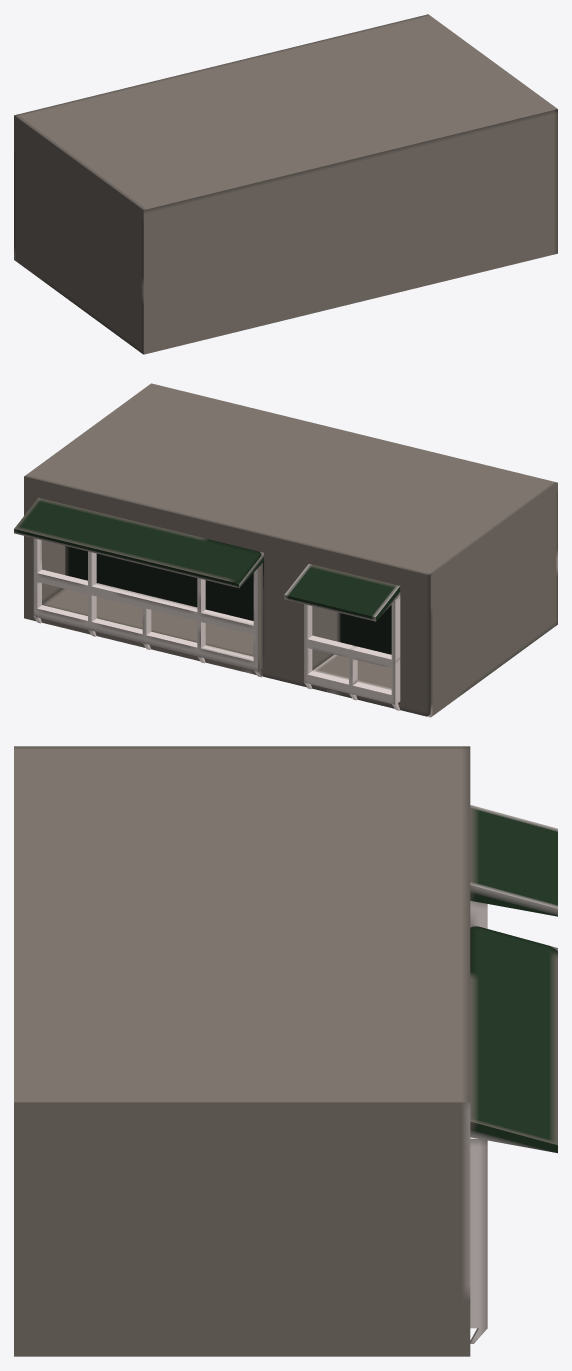
Rendered from ApartmentBuildingMiddle.fbx.
The picture shows the model from 3 angles, top to bottom: view 1: azimuth 30°, elevation 25°; view 2: azimuth 150°, elevation 25°; view 3: azimuth 270°, elevation 25°; orthographic projection. The views are drawn at different scales.
Visible parts, largest first — view 1: middleBase; view 2: middleBase, fence, fence_1; view 3: middleBase, fence.
Boxes of the visible parts, x1=… form: middleBase: x1=14, y1=14, x2=557, y2=354; middleBase: x1=14, y1=383, x2=557, y2=717; fence: x1=33, y1=538, x2=262, y2=677; fence_1: x1=304, y1=595, x2=400, y2=710; middleBase: x1=14, y1=746, x2=557, y2=1356; fence: x1=470, y1=1137, x2=487, y2=1343.
Bounding box in the file's own units: 300 × 100 × 194.
1 material, 1 textured.
